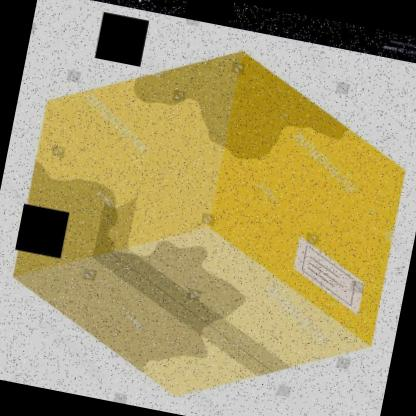box: (0, 15, 416, 416)
